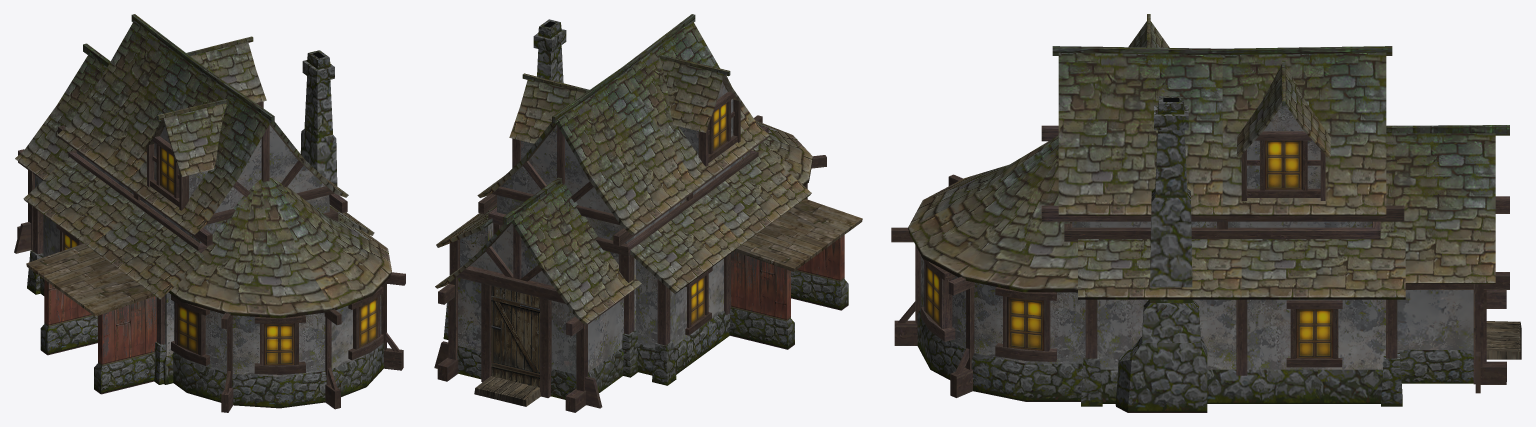
File: KQZD_fangzi_1.FBX
The picture shows the model from 3 angles, left to right: view 1: azimuth 30°, elevation 25°; view 2: azimuth 150°, elevation 25°; view 3: azimuth 270°, elevation 25°; orthographic projection. The views are drawn at different scales.
Visible parts, largest first — view 1: KQZD_fangzi_1; view 2: KQZD_fangzi_1; view 3: KQZD_fangzi_1.
Part boxes in pixels (<box>): KQZD_fangzi_1: <box>14,14,405,412</box>; KQZD_fangzi_1: <box>434,14,862,412</box>; KQZD_fangzi_1: <box>891,14,1521,412</box>.
Size of the model in its own units: 975 by 1512 by 795.
